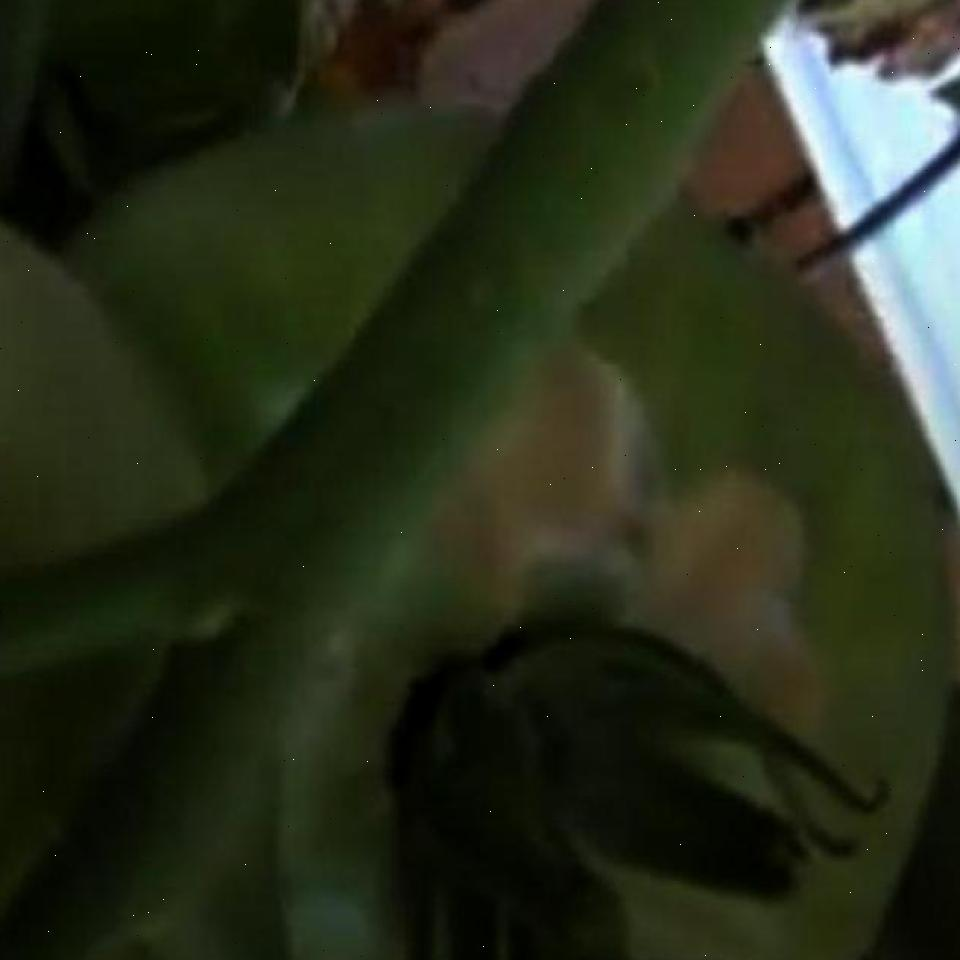Sunscald: (384, 274, 868, 873)
